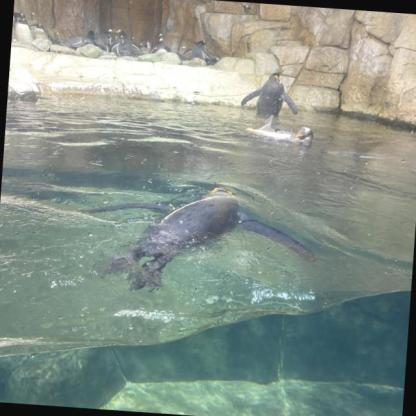penguin: (74, 172, 318, 301), (240, 67, 300, 120), (245, 113, 314, 146), (109, 28, 143, 58), (31, 21, 63, 52), (182, 38, 216, 63), (12, 11, 34, 46), (93, 27, 118, 54), (64, 34, 98, 49), (149, 34, 171, 56)
